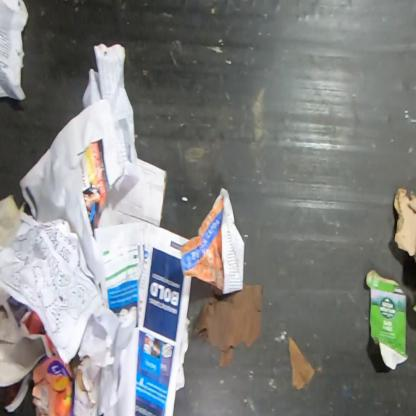cardboard: (366, 268, 409, 370), (30, 354, 76, 415), (392, 186, 415, 265), (287, 334, 315, 392)
